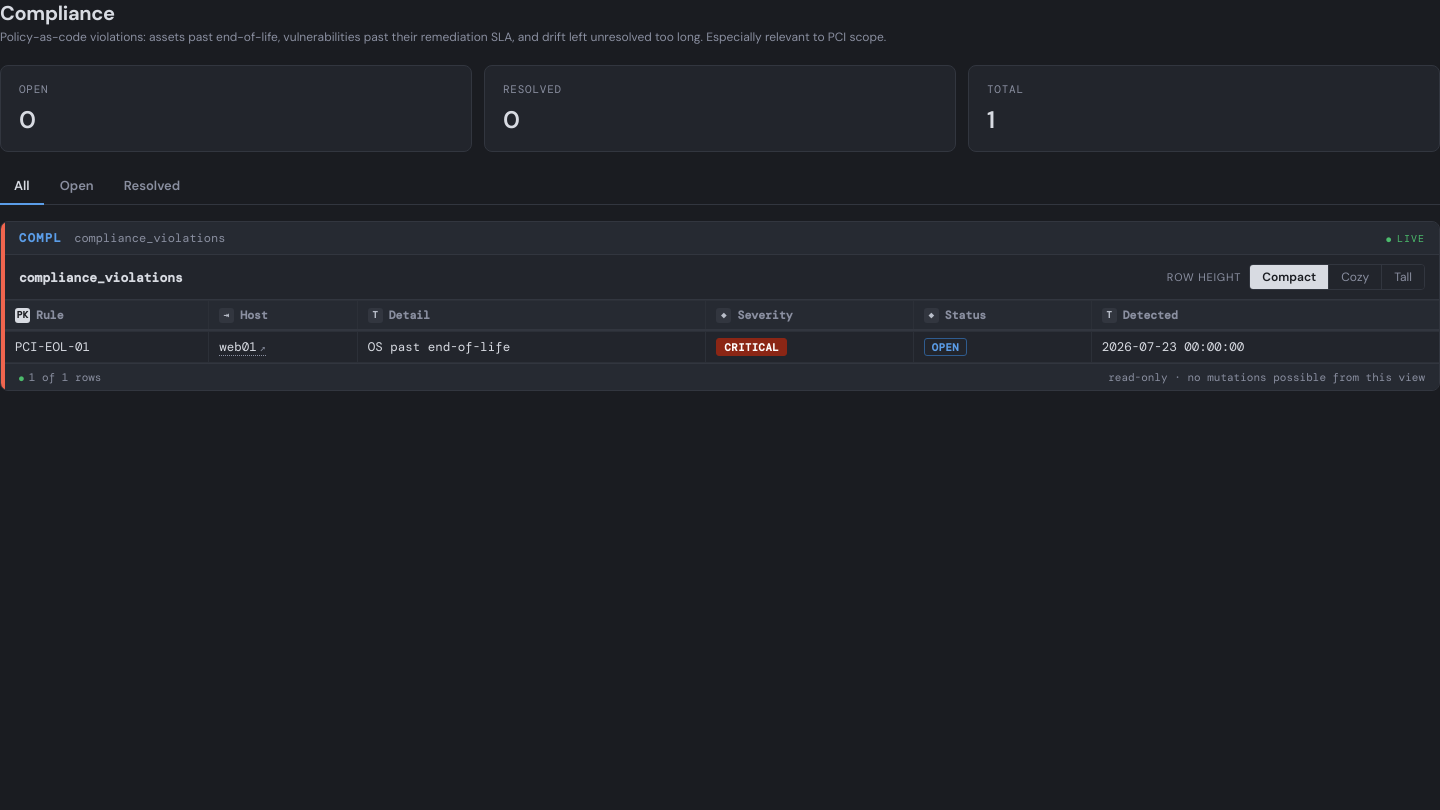
Test case: Compl page — Open/Resolved tile accuracy (TRK-167 follow-up: fleet-wide aggregate) › opens the detail drawer with the full finding on row click
Click the text "PCI-EOL-01": (107, 347) left=5, top=332, right=209, bottom=362
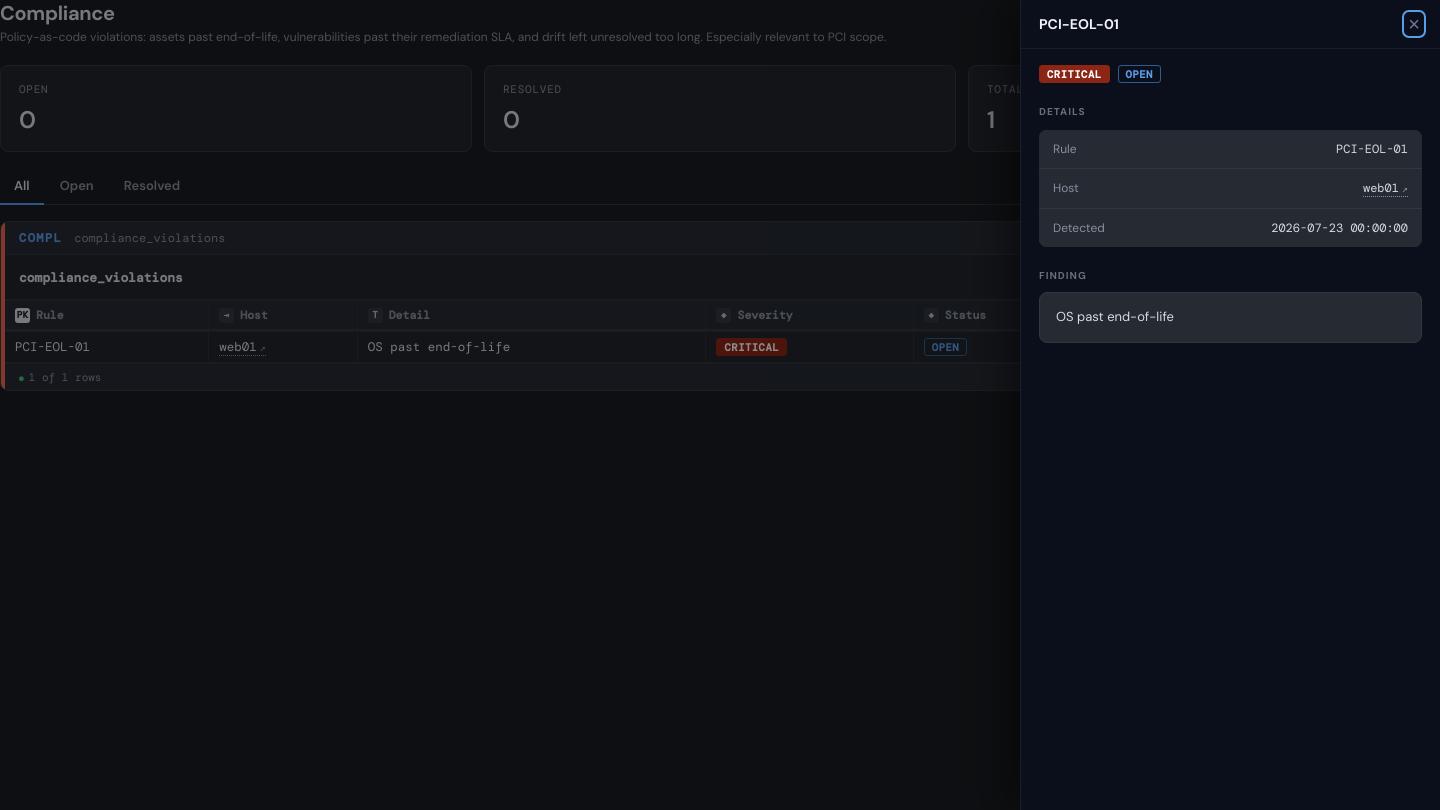
Expected: the text "OS past end-of-life" is shown, left=1056, top=308, right=1174, bottom=325
